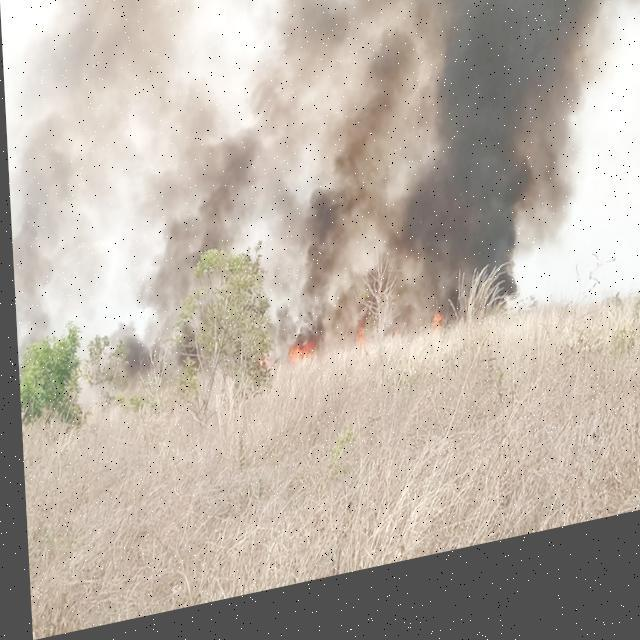Fire: (276, 348, 318, 376), (421, 328, 438, 350), (348, 340, 362, 361)
